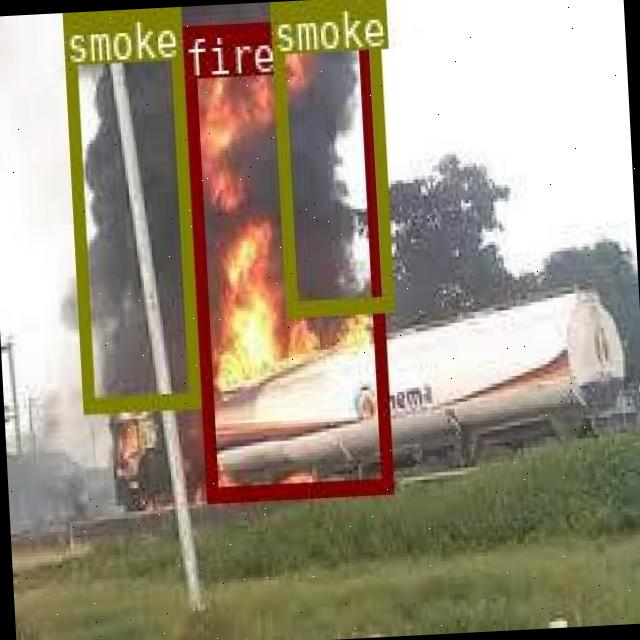fire: (180, 16, 391, 498)
smoke: (62, 8, 198, 412), (268, 0, 390, 315)
